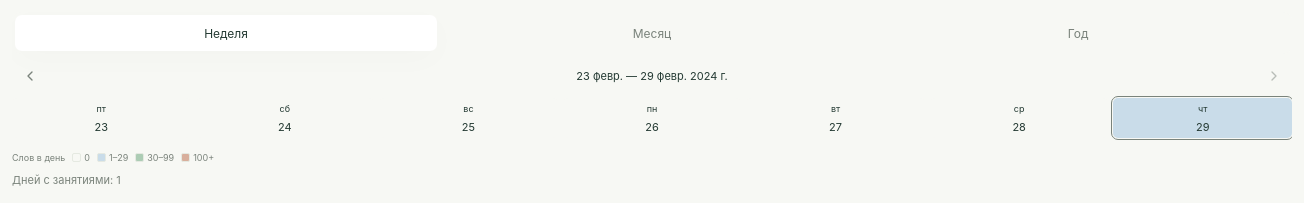
Test: activity calendar › counts distinct words in the configured day, excluding resets and duplicate directions
The image size is (1304, 203).
Click the button with aria-label "29 февраля 2024 г.: слов: 1": (1203, 118) top-left (1113, 98), bottom-right (1292, 138)
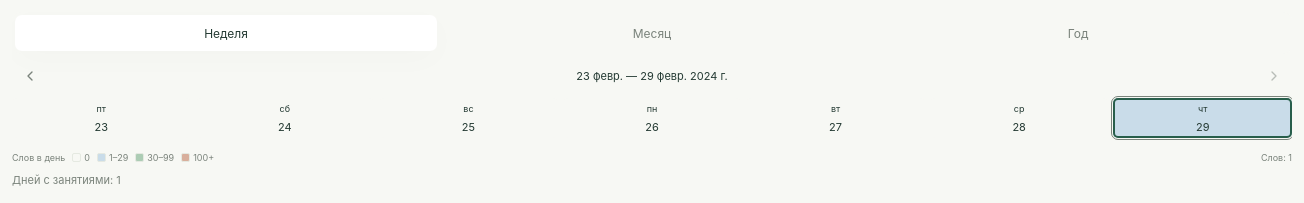
Expected: the text "Слов: 1" is shown, top-left (1261, 152), bottom-right (1292, 164)
Click the button with aria-label "29 февраля 2024 г.: слов: 1": (1203, 118) top-left (1113, 98), bottom-right (1292, 138)
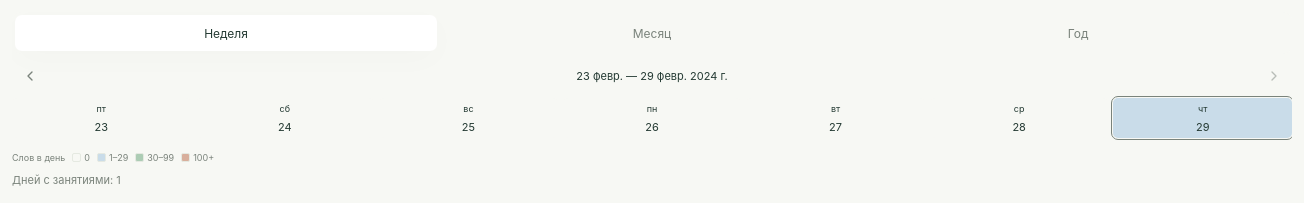
Expected: the text "Слов: 1" is gone
